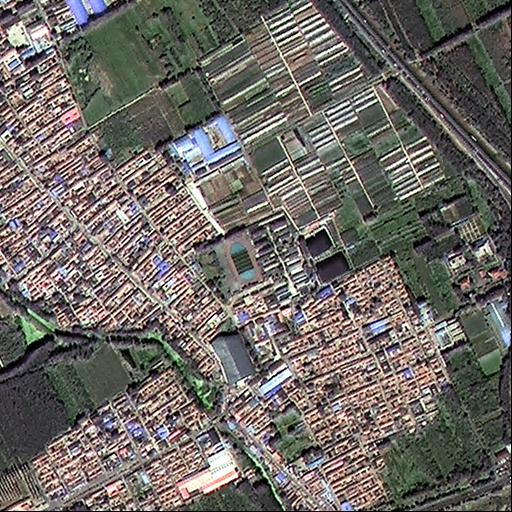school: (221, 209, 311, 299)
